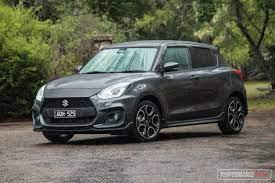Hatchback: (31, 39, 251, 143)
